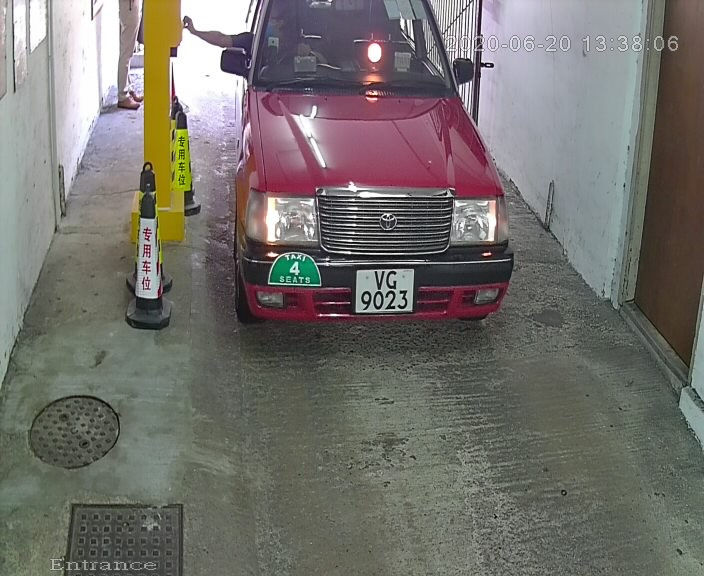taxi: (217, 2, 526, 353)
taxi_mark: (269, 244, 330, 296)
